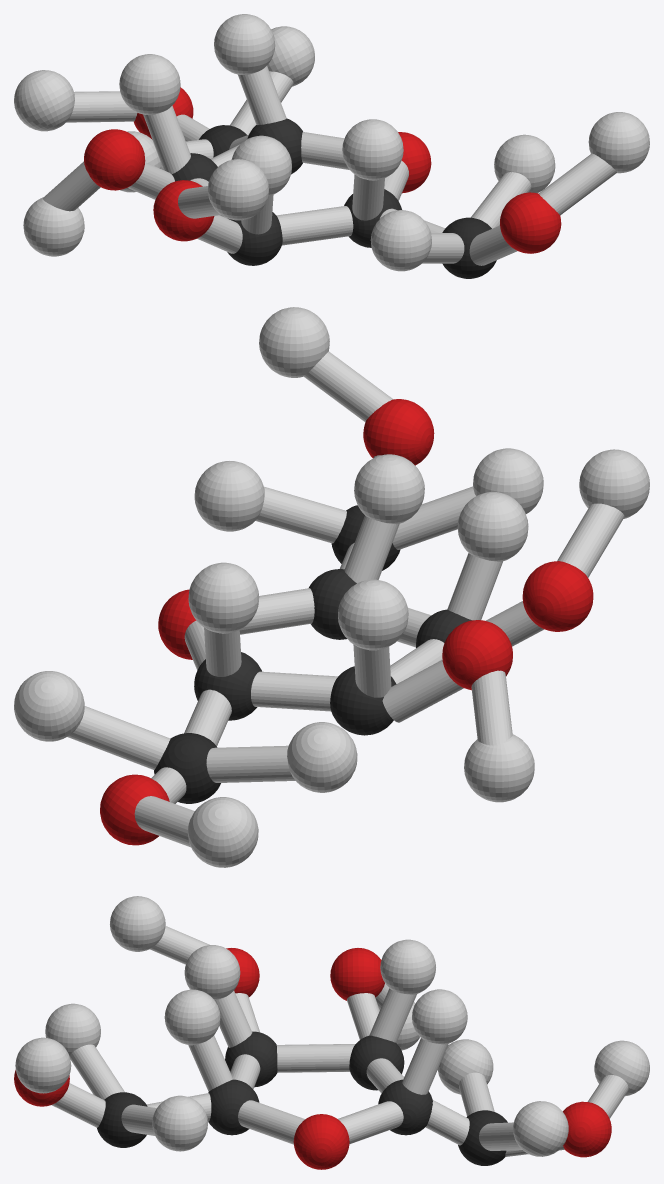
The model's file is Fructuosa.dae.
3 views of the same model, one above another, from view 1: azimuth 30°, elevation 25°; view 2: azimuth 150°, elevation 25°; view 3: azimuth 270°, elevation 25° (orthographic). The views are drawn at different scales.
Parts seen in each view (by area): view 1: Sphere_005, Sphere_002, Sphere_018, Sphere_012, Sphere_017, Sphere_020, Sphere_010, Sphere_003, Sphere_004, Sphere_021, Sphere_009, Cylinder_000 (+30 smaller); view 2: Sphere_010, Sphere_017, Sphere_012, Sphere_014, Sphere_019, Sphere_011, Sphere_009, Sphere_005, Sphere_016, Sphere_004, Sphere_021, Sphere_018 (+29 smaller); view 3: Sphere_009, Sphere_004, Sphere_014, Sphere_008, Sphere_005, Sphere_018, Sphere_010, Sphere_017, Sphere_016, Sphere_020, Sphere_013, Cylinder_002 (+30 smaller).
Boxes of the visible parts, x1,y1,x2,y2 form: Sphere_005: (342, 119, 403, 180); Sphere_002: (370, 210, 431, 271); Sphere_018: (208, 159, 268, 220); Sphere_012: (14, 70, 74, 131); Sphere_017: (119, 54, 180, 114); Sphere_020: (84, 129, 145, 190); Sphere_010: (214, 14, 275, 74); Sphere_003: (500, 192, 561, 253); Sphere_004: (588, 112, 649, 173); Sphere_021: (23, 197, 84, 256); Sphere_009: (494, 134, 555, 193); Cylinder_000: (276, 206, 353, 245); Sphere_010: (188, 562, 259, 633); Sphere_017: (338, 579, 408, 650); Sphere_012: (188, 797, 258, 867); Sphere_014: (14, 671, 84, 741); Sphere_019: (522, 561, 593, 631); Sphere_011: (287, 722, 357, 792); Sphere_009: (194, 461, 264, 531); Sphere_005: (354, 454, 424, 524); Sphere_016: (457, 492, 528, 561); Sphere_004: (259, 307, 329, 377); Sphere_021: (464, 734, 534, 802); Sphere_018: (579, 449, 649, 518); Sphere_009: (152, 1095, 207, 1151); Sphere_004: (15, 1037, 71, 1093); Sphere_014: (513, 1101, 568, 1156); Sphere_008: (293, 1114, 349, 1169); Sphere_005: (164, 989, 220, 1045); Sphere_018: (110, 896, 165, 951); Sphere_010: (412, 989, 467, 1044); Sphere_017: (380, 939, 435, 994); Sphere_016: (184, 945, 240, 1000); Sphere_020: (330, 948, 384, 1000); Sphere_013: (563, 1101, 611, 1157); Cylinder_002: (276, 1044, 355, 1072).
Bounding box in the file's own units: 6.86 × 9.78 × 3.23.
